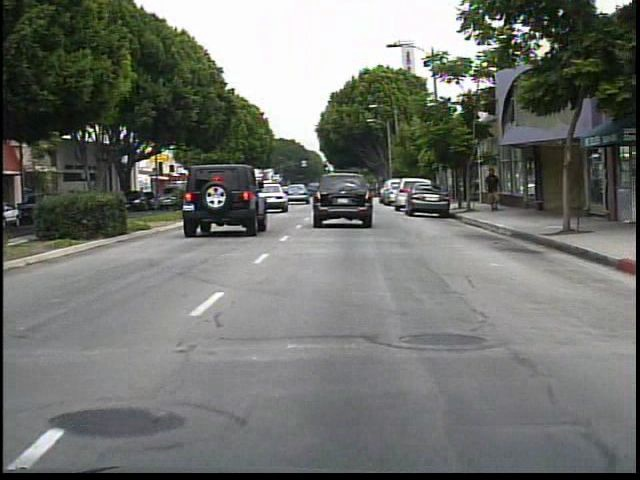person: (481, 166, 507, 216)
